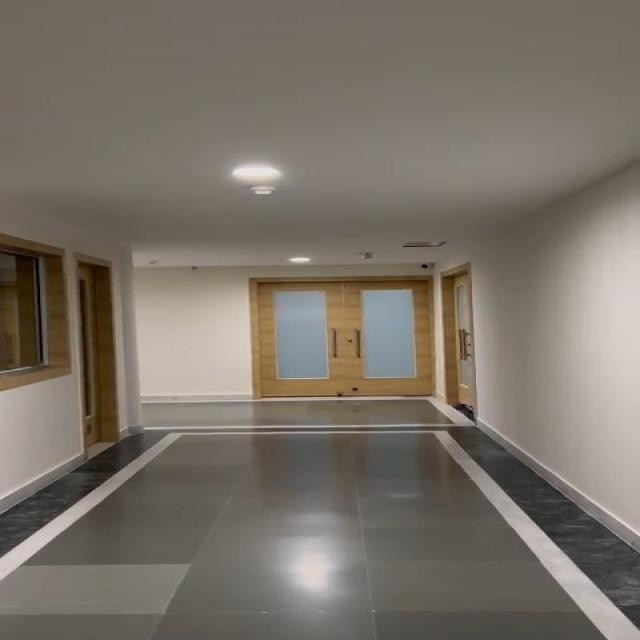door: (251, 274, 477, 409), (59, 245, 144, 450)
floor: (0, 516, 620, 640), (166, 393, 464, 512)
wall: (477, 228, 640, 456), (134, 263, 249, 397), (0, 392, 70, 481)
